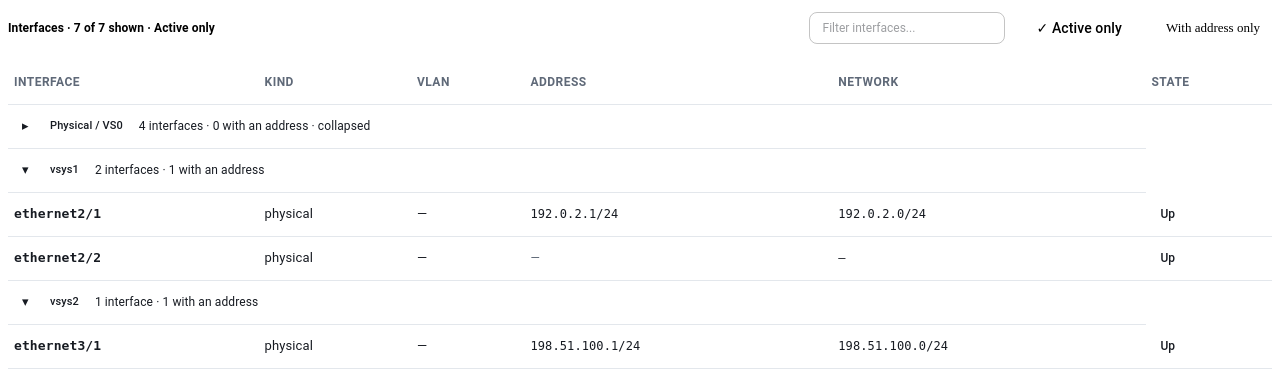
grouped by VSYS › opens a collapsed group that holds a row the filter asks for
The image size is (1280, 386).
Type "ethernet1/3" into the field with placeholder "Filter interfaces..." at (906, 28), box [808,11,1004,45]
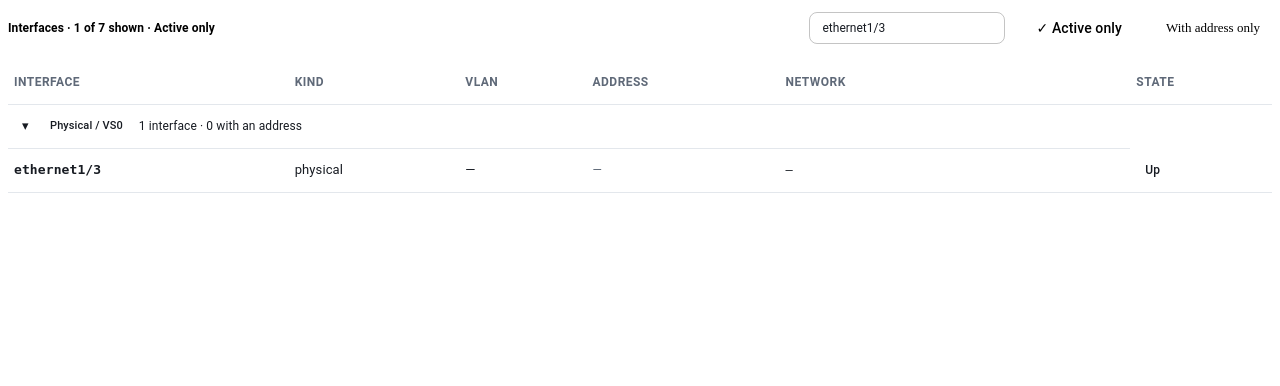
expect the text "ethernet1/3" is shown: met, box [8,148,289,192]
expect the text "ethernet2/1" is gone: met
